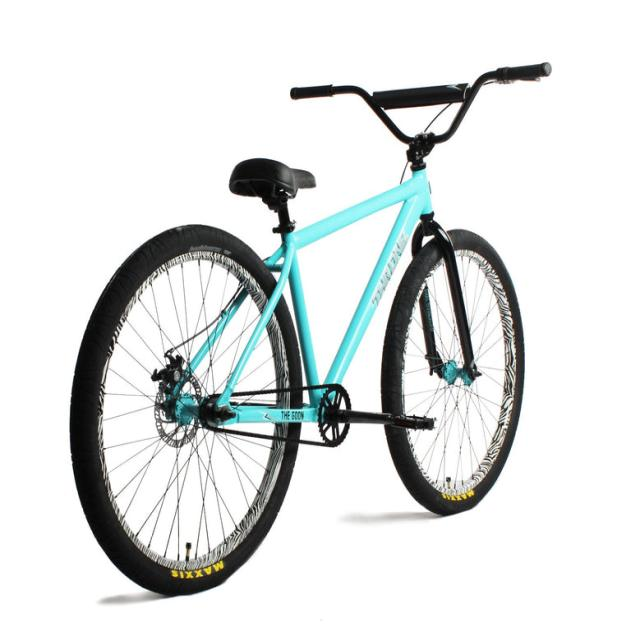mountain-bike: (69, 61, 558, 596)
